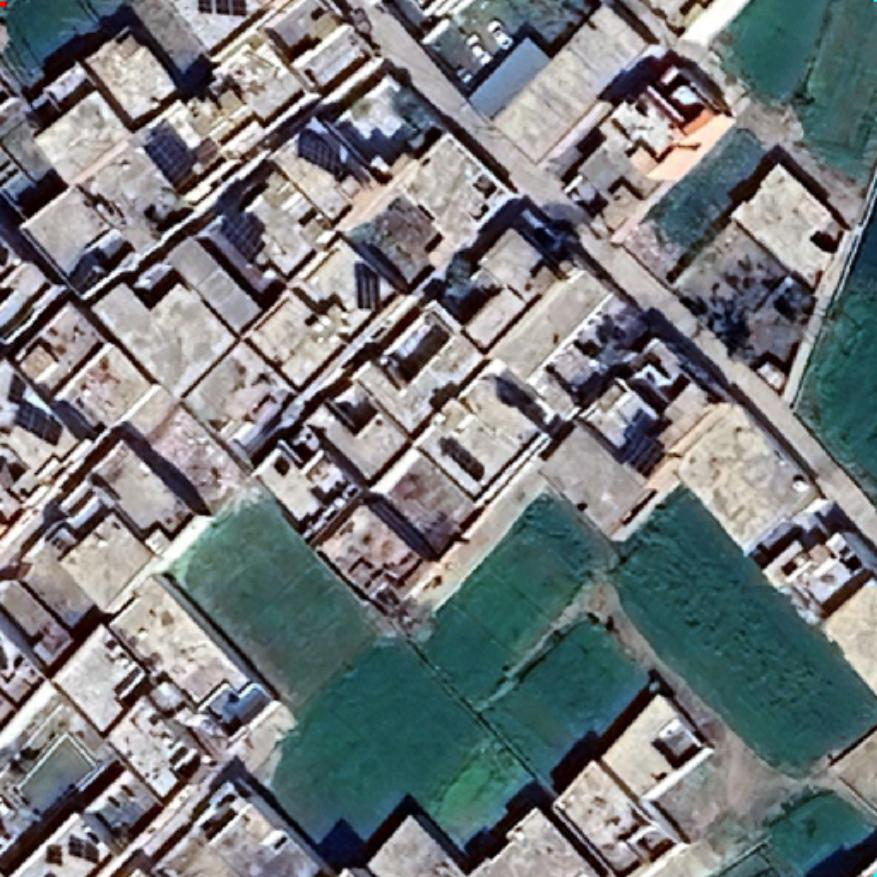Solarpanel: (140, 117, 202, 194), (216, 205, 272, 268), (614, 420, 670, 481), (293, 123, 347, 178), (11, 397, 67, 448), (347, 268, 384, 311), (196, 0, 249, 18)
